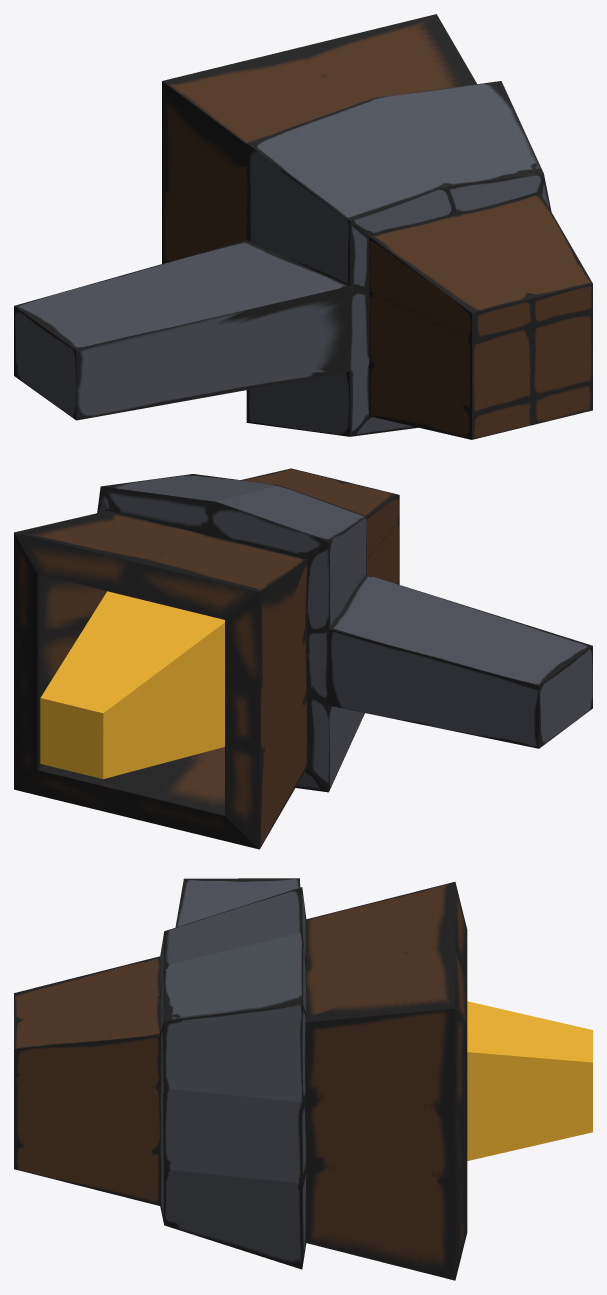
File: Pumpkin_torch.fbx
3 renders of one model, top to bottom at view 1: azimuth 30°, elevation 25°; view 2: azimuth 150°, elevation 25°; view 3: azimuth 270°, elevation 25°, orthographic. The views are drawn at different scales.
Parts seen in each view (by area): view 1: Cube.001; view 2: Cube.001; view 3: Cube.001.
Part boxes in pixels (x1,y1,x2,y2): Cube.001: (14,14,592,439); Cube.001: (14,468,592,849); Cube.001: (14,878,592,1280).
Size of the model in its own units: 250 by 146 by 262.
